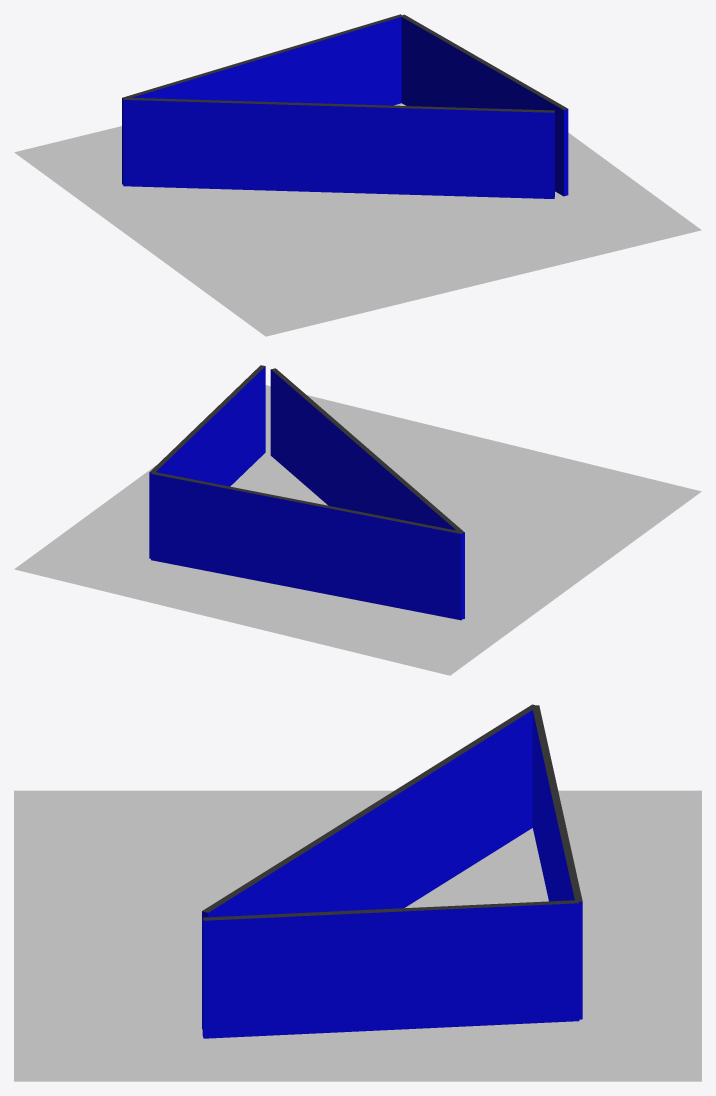
File: foo.obj
3 renders of one model, top to bottom at view 1: azimuth 30°, elevation 25°; view 2: azimuth 150°, elevation 25°; view 3: azimuth 270°, elevation 25°, orthographic. The views are drawn at different scales.
Bounding box in the file's own units: 1.07 × 0.2032 × 1.07.
